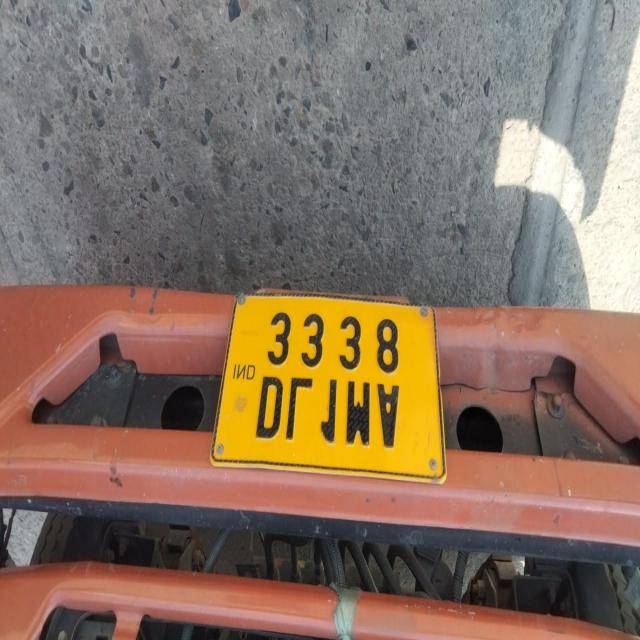License-plate: (238, 287, 431, 464)
